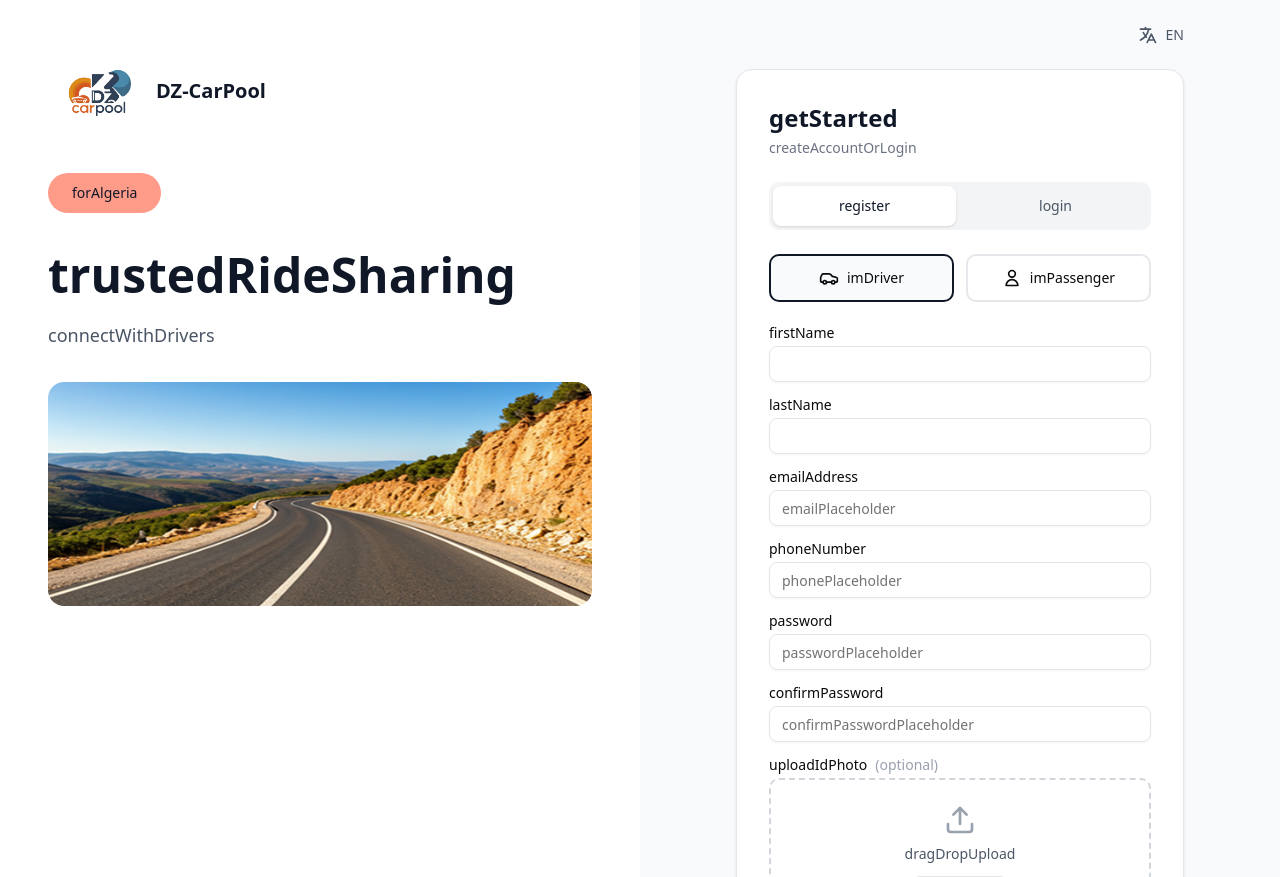
Test: SignupPage › disables submit button while loading
Type "John" into the field labelled "firstName" at (960, 364), box [769,346,1151,382]
Type "Doe" into the field labelled "lastName" at (960, 436), box [769,418,1151,454]
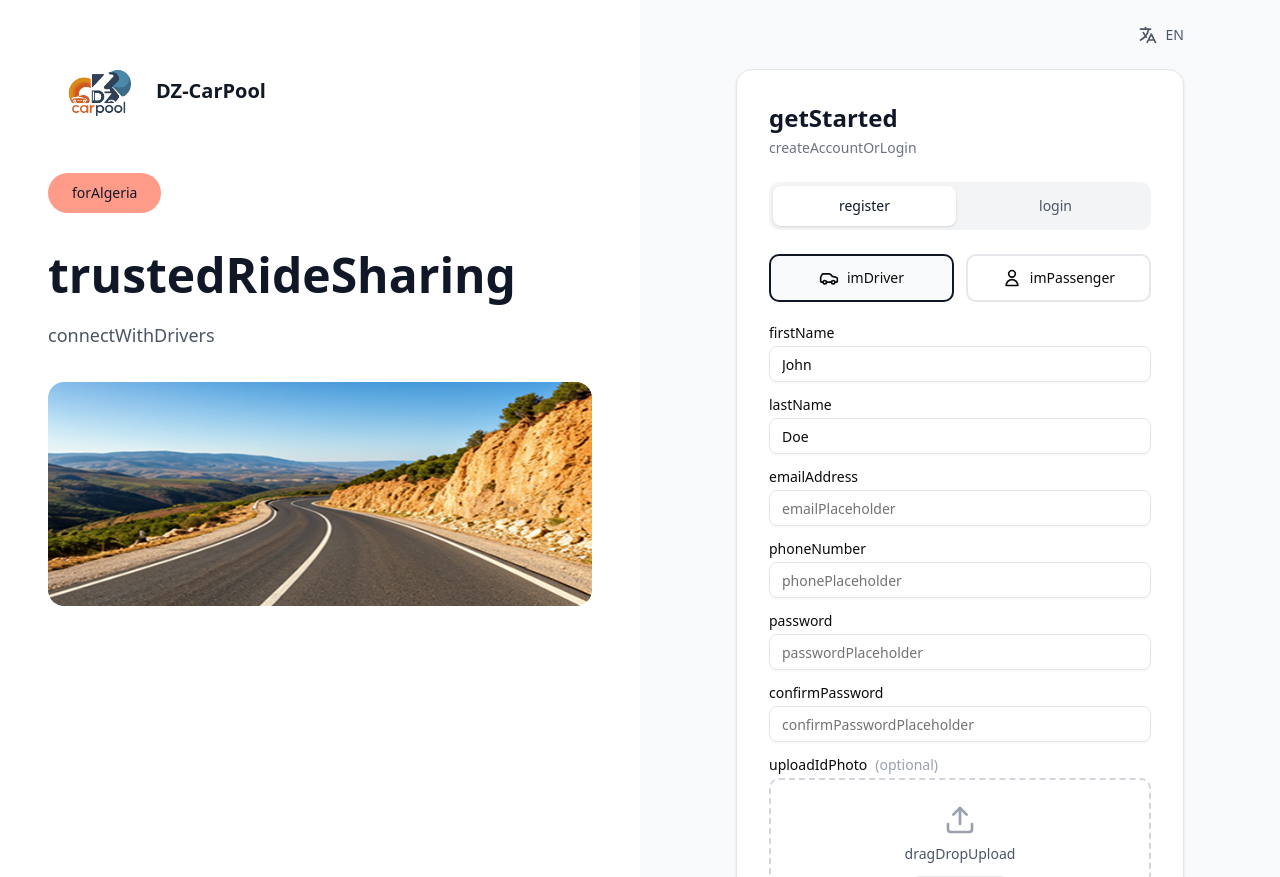
Type "john@example.com" into the field labelled "emailAddress" at (960, 508), box [769,490,1151,526]
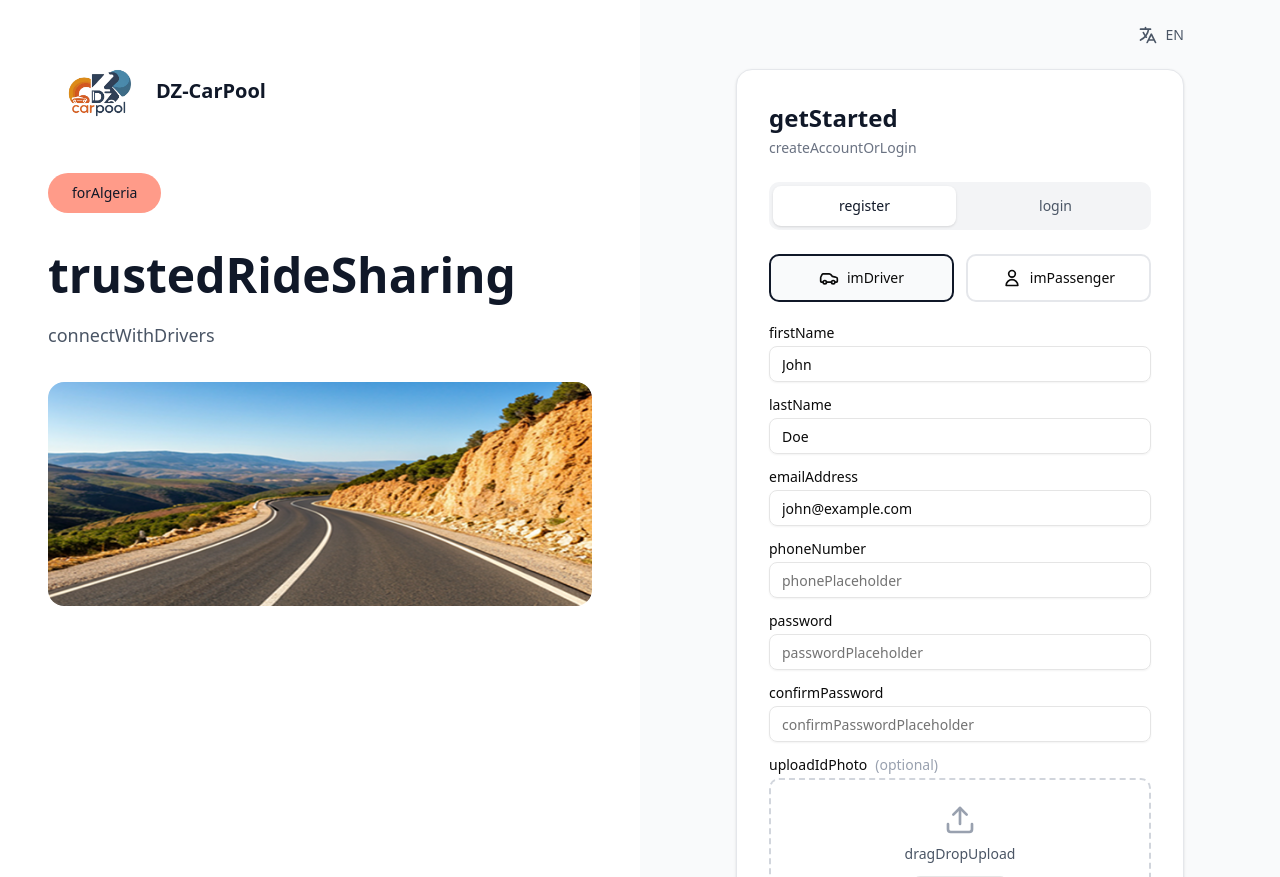
Type "+213555000000" into the field labelled "phoneNumber" at (960, 580), box [769,562,1151,598]
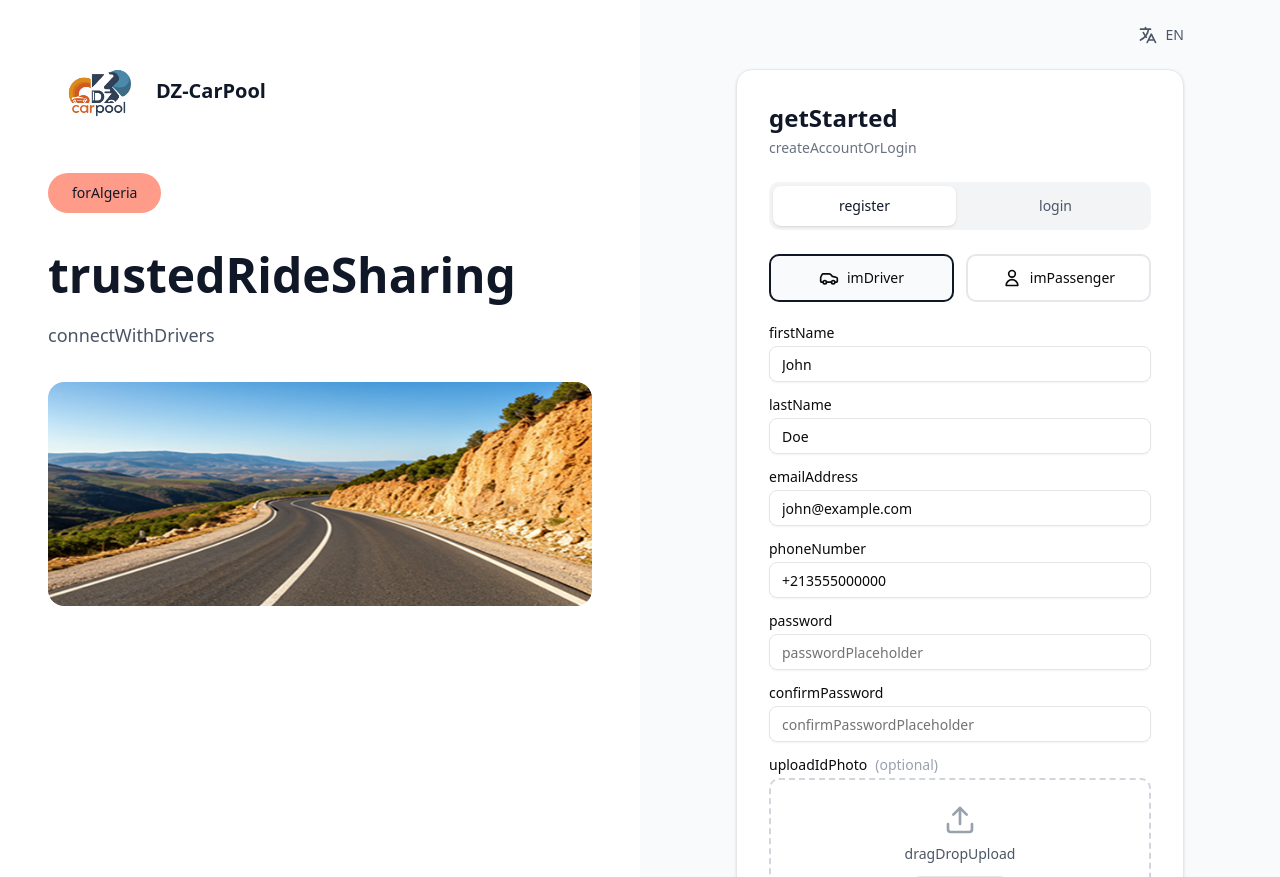
Type "password123" into the password field labelled "password" at (960, 652), box [769,634,1151,670]
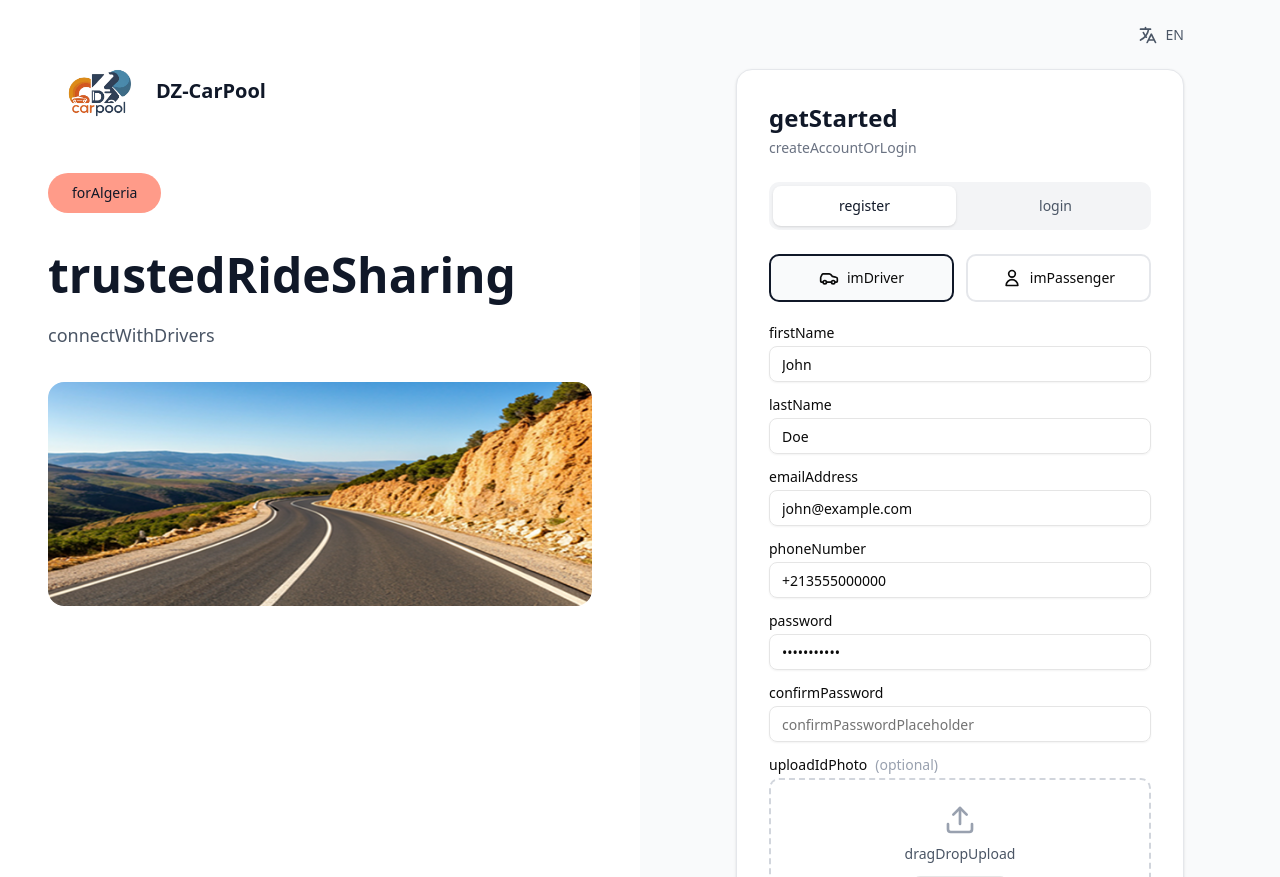
Type "password123" into the password field labelled "confirmPassword" at (960, 724), box [769,706,1151,742]
(page scrolled)
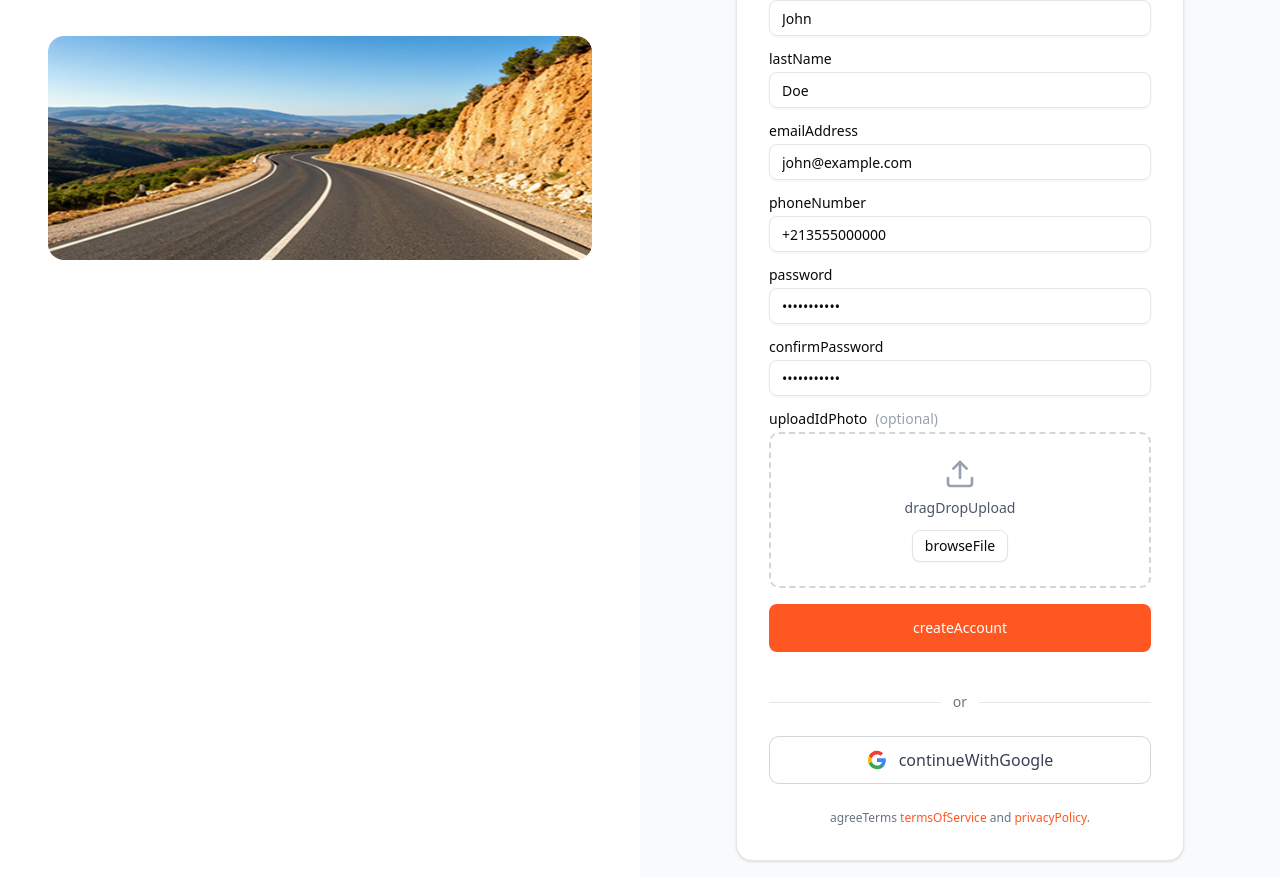
Click the button "createAccount" at (960, 628), box [769,604,1151,652]
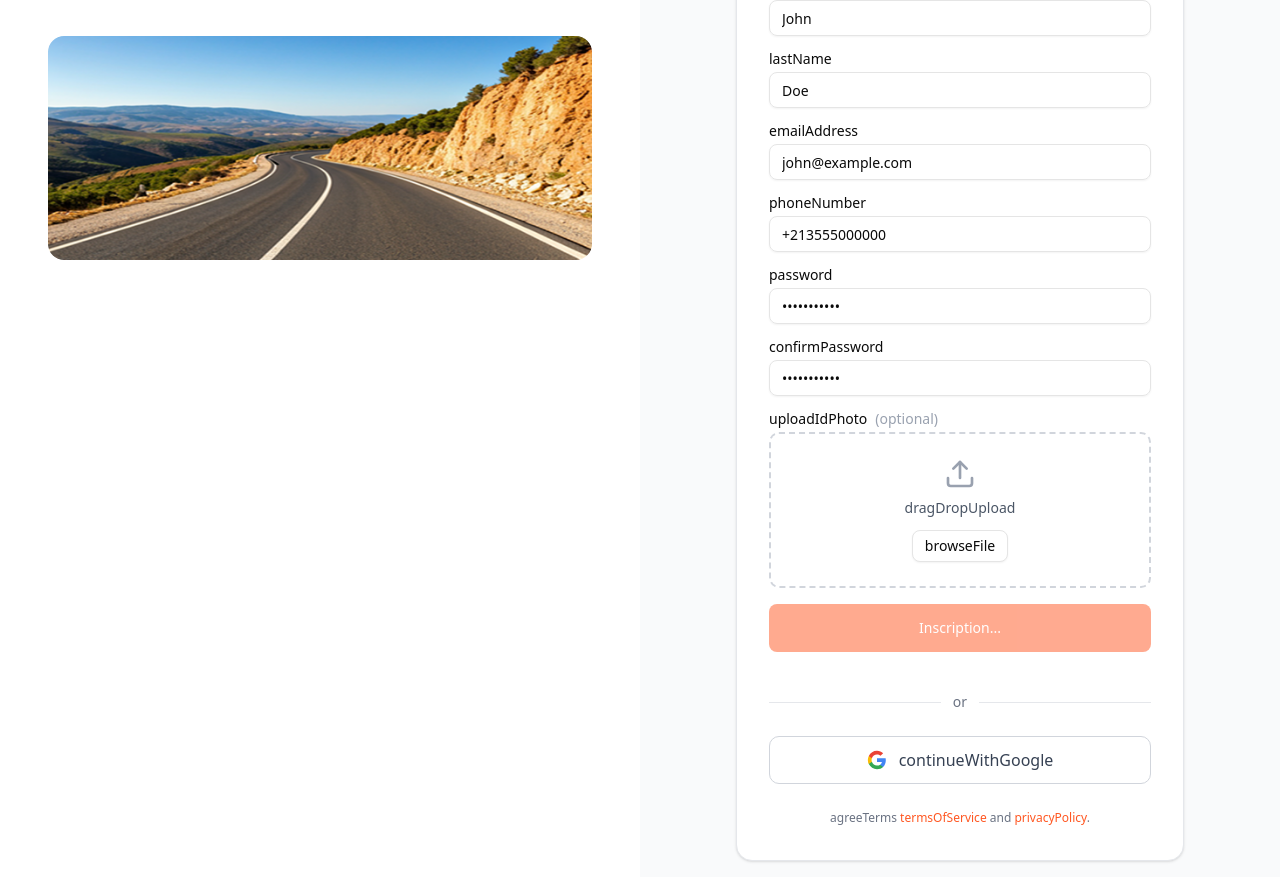
Check: the button "createAccount" is disabled, box [769,604,1151,652]
